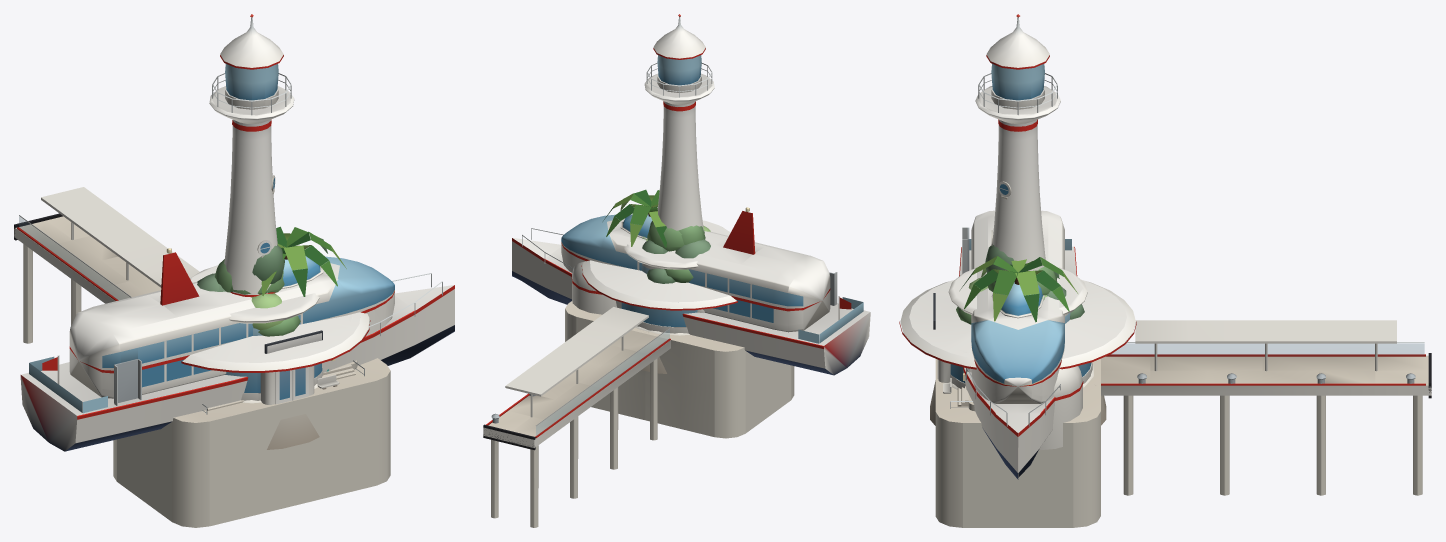
The model's file is props.glb.
3 renders of one model, left to right at view 1: azimuth 30°, elevation 25°; view 2: azimuth 150°, elevation 25°; view 3: azimuth 270°, elevation 25°, orthographic. The views are drawn at different scales.
Parts seen in each view (by area): view 1: ferry_terminal, ferry, lighthouse, palm, house_c, tree_b, tree_a, tram_stop; view 2: ferry_terminal, ferry, lighthouse, palm, tree_a, house_c, tree_c; view 3: ferry_terminal, ferry, lighthouse, palm, house_c.
Boxes of the visible parts, x1,y1,x2,y2 form: ferry_terminal: (14,187,390,527); ferry: (20,248,454,451); lighthouse: (209,14,319,449); palm: (261,226,346,296); house_c: (190,265,319,335); tree_b: (214,244,284,292); tree_a: (197,271,284,330); tram_stop: (200,315,364,414); ferry_terminal: (483,260,794,527); ferry: (512,207,870,375); lighthouse: (571,14,714,373); palm: (603,189,666,247); tree_a: (642,221,710,258); house_c: (623,220,730,273); tree_c: (645,239,693,283); ferry_terminal: (899,280,1431,527); ferry: (959,210,1077,479); lighthouse: (930,14,1106,450); palm: (960,256,1077,322); house_c: (948,267,1087,323).
Size of the model in its own units: 34.5 by 37.46 by 38.62.
